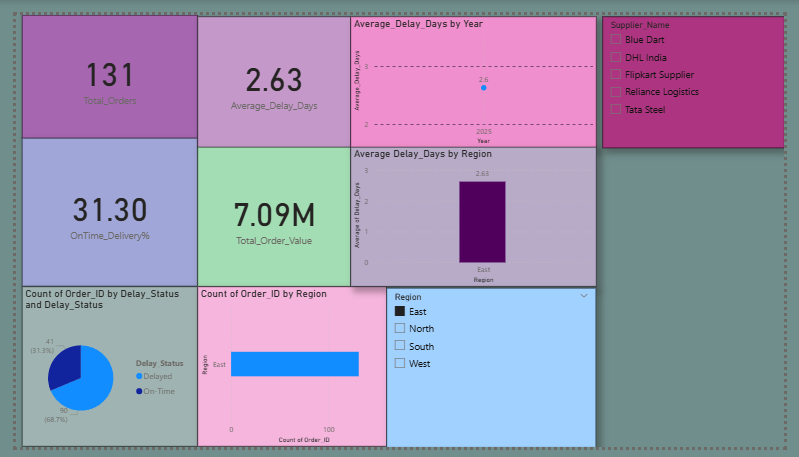

The page's visual inventory and layout, read from the dashboard file:
{"tool":"powerbi","page":{"name":"Delivery & Delay Overview","canvas":[1280,720],"ordinal":0},"visuals":[{"type":"card","fields":{"Values":["supply_chain_data.Total_Orders_Measure"]},"box":[9.4,0,292.9,206],"z":0},{"type":"card","fields":{"Values":["supply_chain_data.OnTime_Delivery_Percent"]},"box":[9.4,206,292.9,247.6],"z":1000},{"type":"card","fields":{"Values":["supply_chain_data.Average_Delay_Days"]},"box":[302.4,1.9,255.1,219.2],"z":2000},{"type":"card","fields":{"Values":["supply_chain_data.Total_Order_Value"]},"box":[302.4,221.1,255.1,232.4],"z":3000},{"type":"pieChart","fields":{"Category":["supply_chain_data.Delay_Status"],"Series":["supply_chain_data.Delay_Status"],"Y":["CountNonNull(supply_chain_data.Order_ID)"]},"box":[9.4,453.5,292.9,266.5],"z":4000},{"type":"clusteredBarChart","fields":{"Category":["supply_chain_data.Region"],"Y":["CountNonNull(supply_chain_data.Order_ID)"]},"box":[302.4,453.5,315.6,266.5],"z":5000},{"type":"lineChart","fields":{"Category":["supply_chain_data.Order_Date.Variation.Date Hierarchy.Year","supply_chain_data.Order_Date.Variation.Date Hierarchy.Quarter","supply_chain_data.Order_Date.Variation.Date Hierarchy.Month","supply_chain_data.Order_Date.Variation.Date Hierarchy.Day"],"Y":["supply_chain_data.Average_Delay_Days"]},"box":[557.5,1.9,410.1,219.2],"z":6000},{"type":"clusteredColumnChart","title":"Average Delay_Days by Region","fields":{"Category":["supply_chain_data.Region"],"Y":["Avg(supply_chain_data.Delay_Days)"]},"box":[557.5,221.1,410.1,232.4],"z":7000},{"type":"slicer","fields":{"Values":["supply_chain_data.Region"]},"box":[618,454,349,266],"z":8000},{"type":"slicer","fields":{"Values":["supply_chain_data.Supplier_Name"]},"box":[977,2,303,219],"z":9000}]}

Visuals, with their boxes in screenshot pixels (x1, y1, x2, y2), scaled from the page's 1280x720 canvas onto the 799x457 screenshot:
card - supply_chain_data.Total_Orders_Measure: bbox(6, 0, 189, 131)
card - supply_chain_data.OnTime_Delivery_Percent: bbox(6, 131, 189, 288)
card - supply_chain_data.Average_Delay_Days: bbox(189, 1, 348, 140)
card - supply_chain_data.Total_Order_Value: bbox(189, 140, 348, 288)
pieChart - supply_chain_data.Delay_Status x supply_chain_data.Delay_Status: bbox(6, 288, 189, 456)
clusteredBarChart - supply_chain_data.Region x CountNonNull(supply_chain_data.Order_ID): bbox(189, 288, 386, 456)
lineChart - supply_chain_data.Order_Date.Variation.Date Hierarchy.Year x supply_chain_data.Order_Date.Variation.Date Hierarchy.Quarter: bbox(348, 1, 604, 140)
"Average Delay_Days by Region" clusteredColumnChart: bbox(348, 140, 604, 288)
slicer - supply_chain_data.Region: bbox(386, 288, 604, 456)
slicer - supply_chain_data.Supplier_Name: bbox(610, 1, 798, 140)
